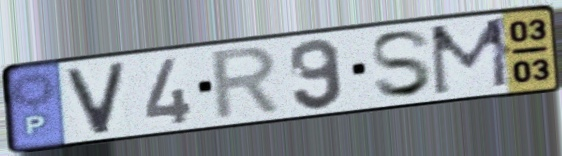4: (142, 54, 196, 126)
9: (287, 36, 347, 113)
M: (426, 14, 515, 99)
R: (209, 42, 286, 124)
S: (367, 27, 436, 101)
V: (62, 59, 130, 138)
